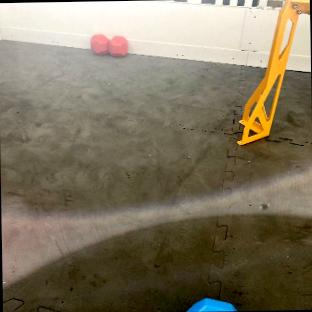V5_BLUE: (187, 297, 235, 311)
V5_RED: (90, 34, 127, 55)
